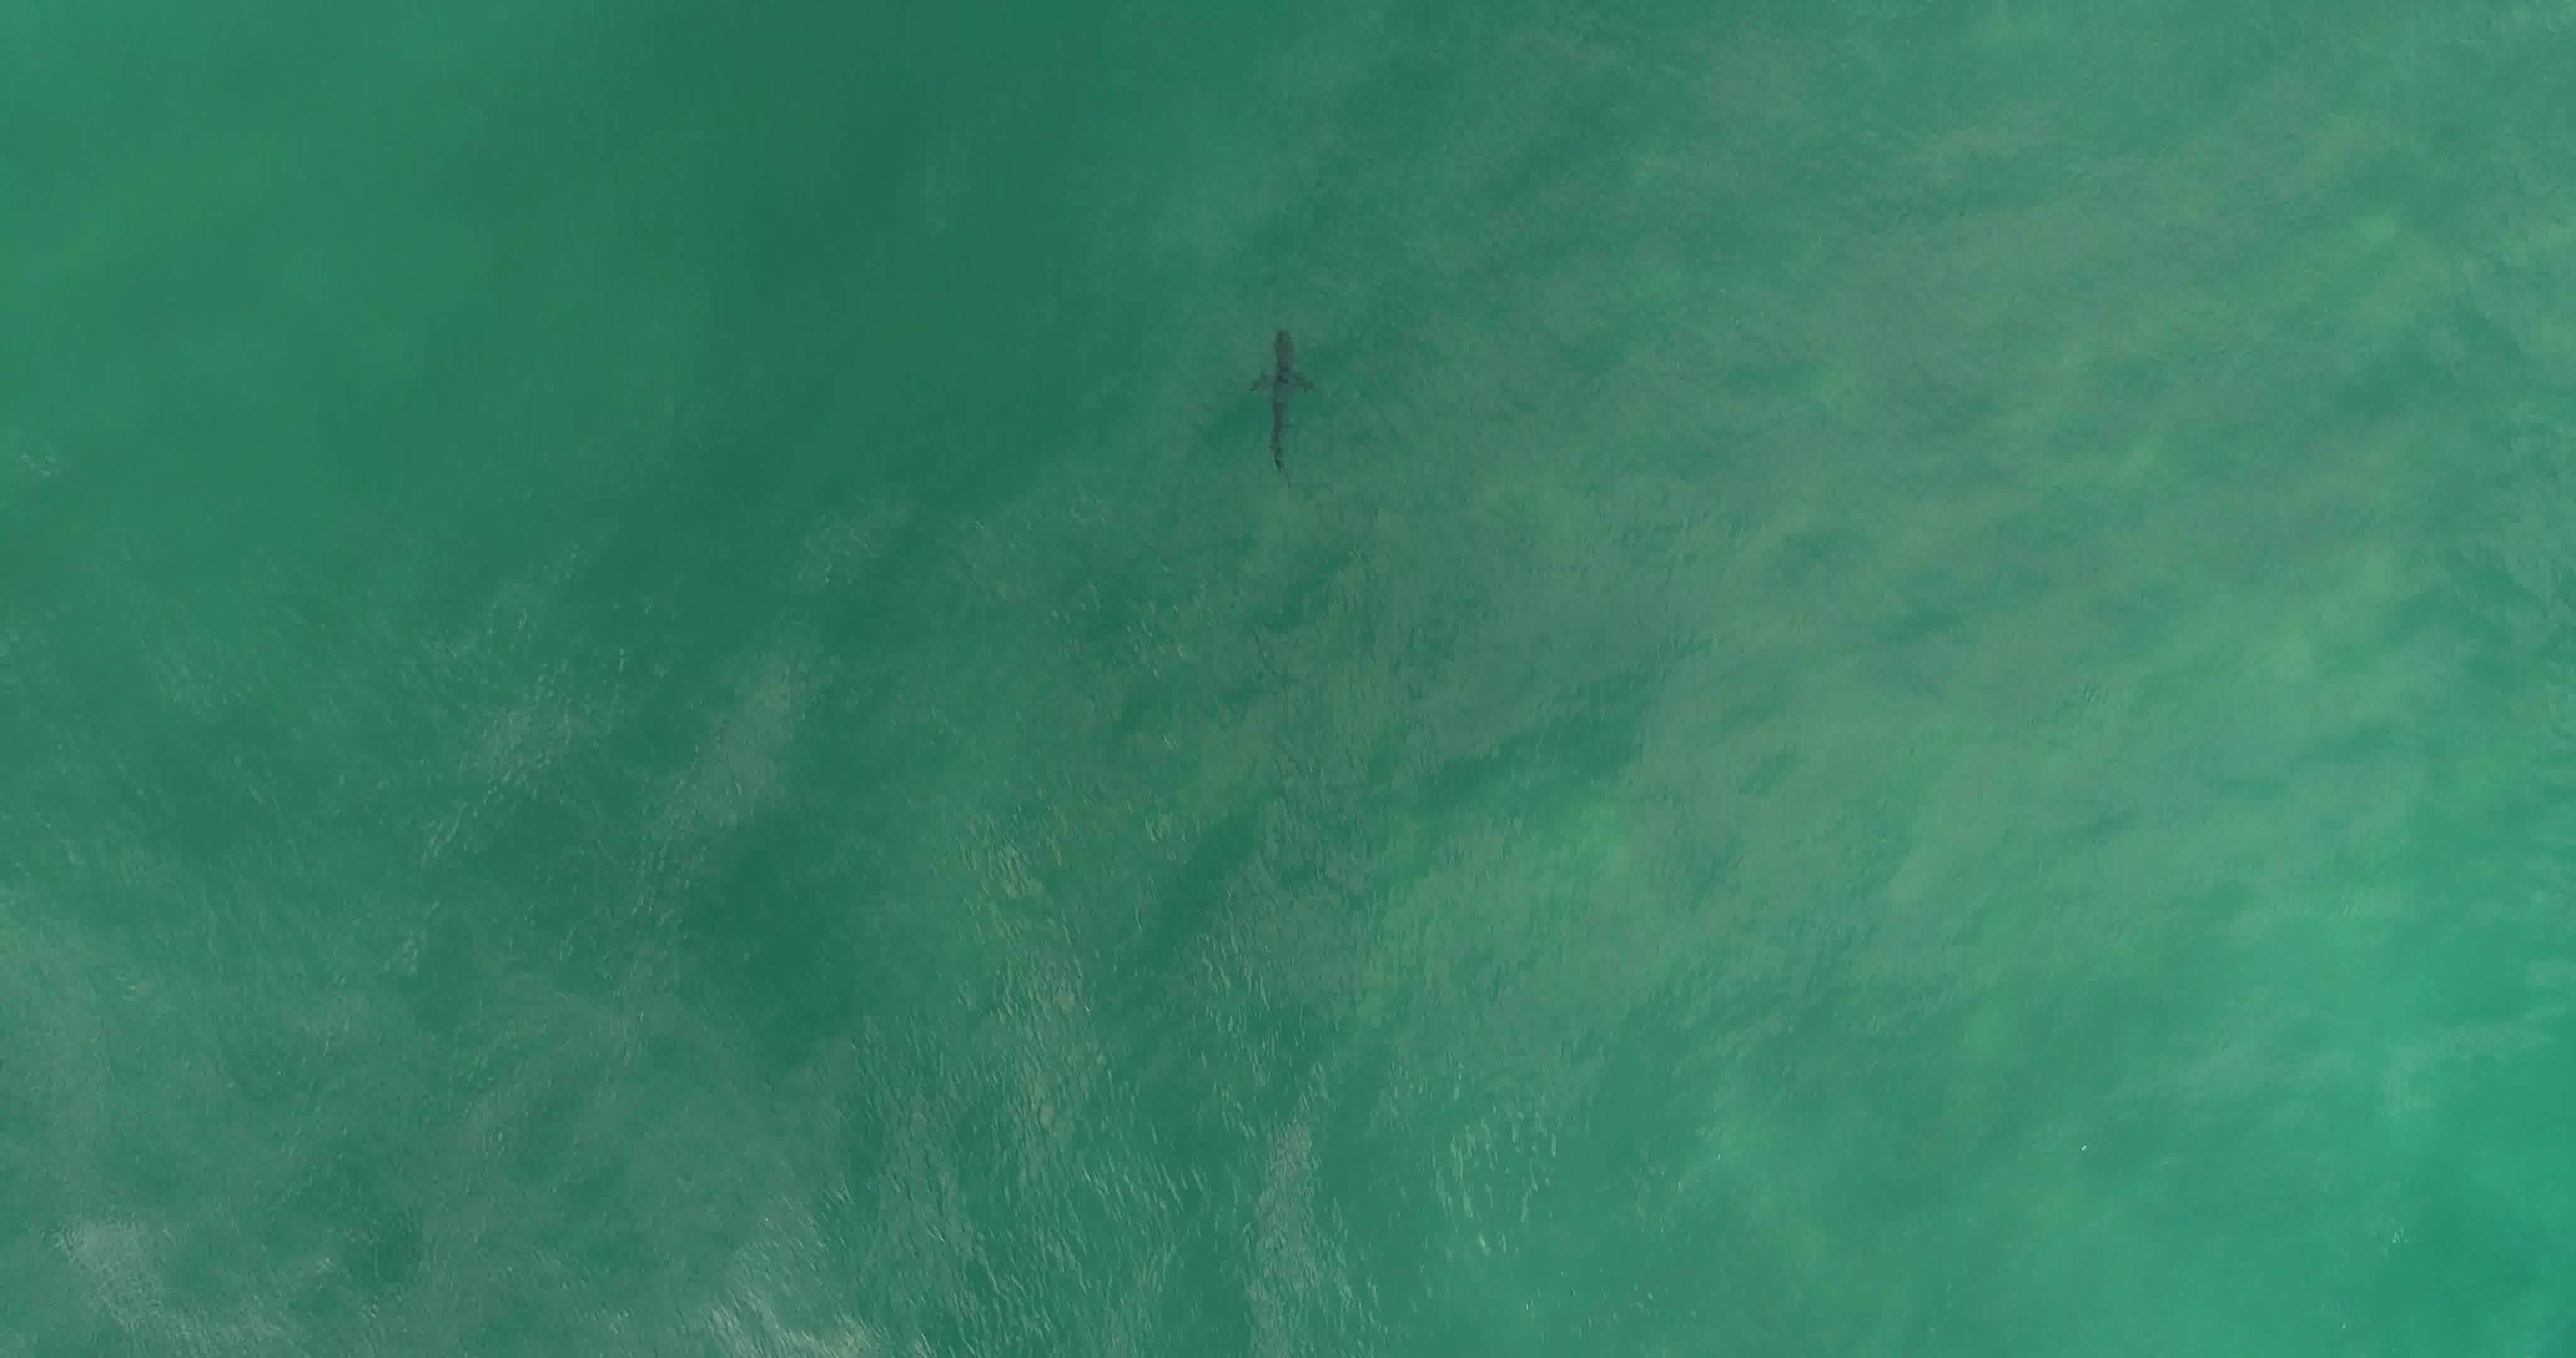shark: (1247, 324, 1327, 479)
